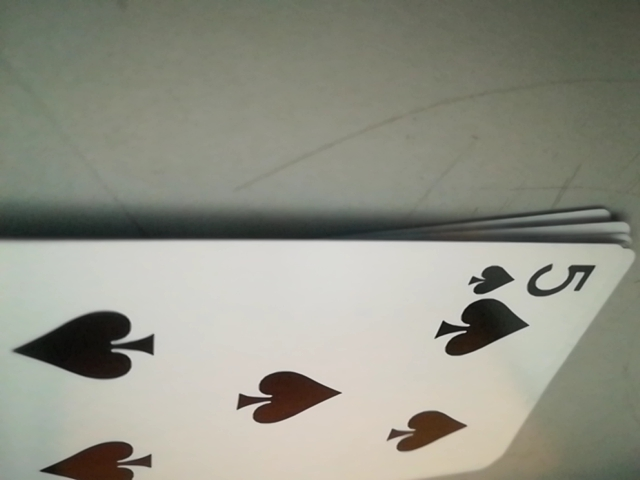ht 5: (462, 254, 604, 300)
